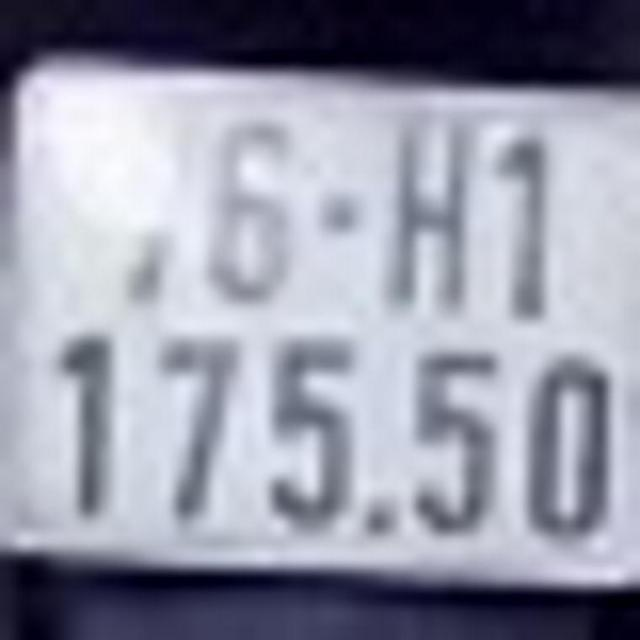0: (524, 348, 610, 538)
1: (494, 129, 554, 329), (71, 328, 124, 522)
5: (265, 330, 354, 530), (408, 342, 491, 532)
6: (213, 119, 294, 308)
7: (152, 323, 244, 532)
H: (396, 116, 472, 318)
